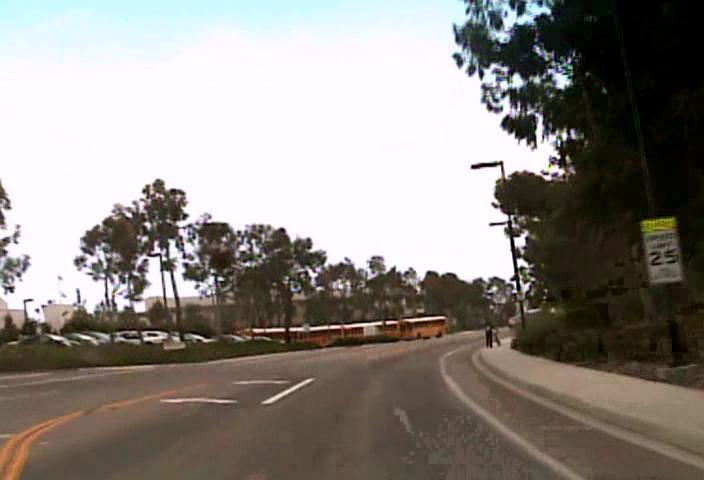schoolSpeedLimit25: (640, 216, 684, 284)
